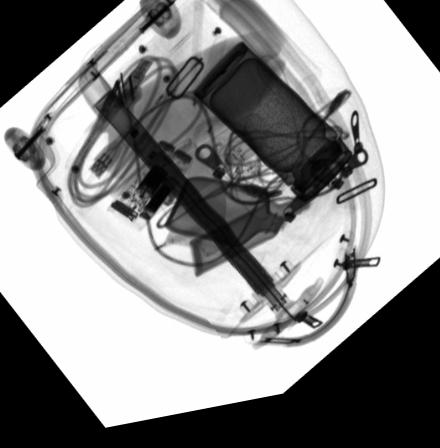Sprayer: (206, 0, 288, 75)
